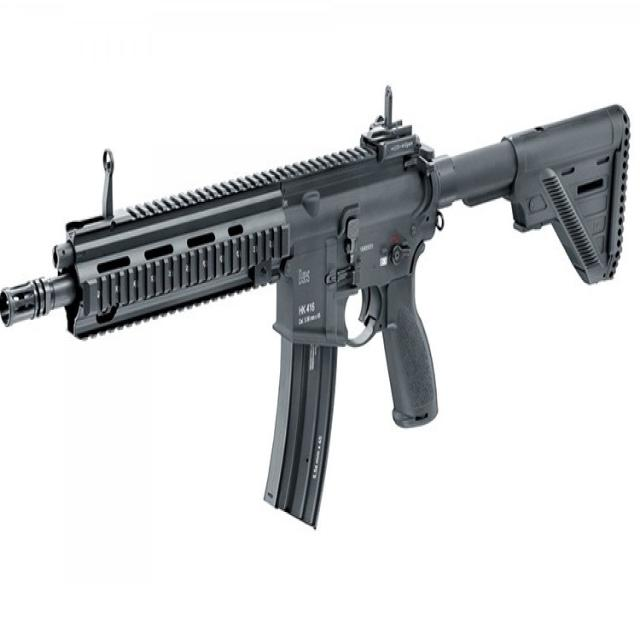Weapon: (1, 73, 630, 536)
